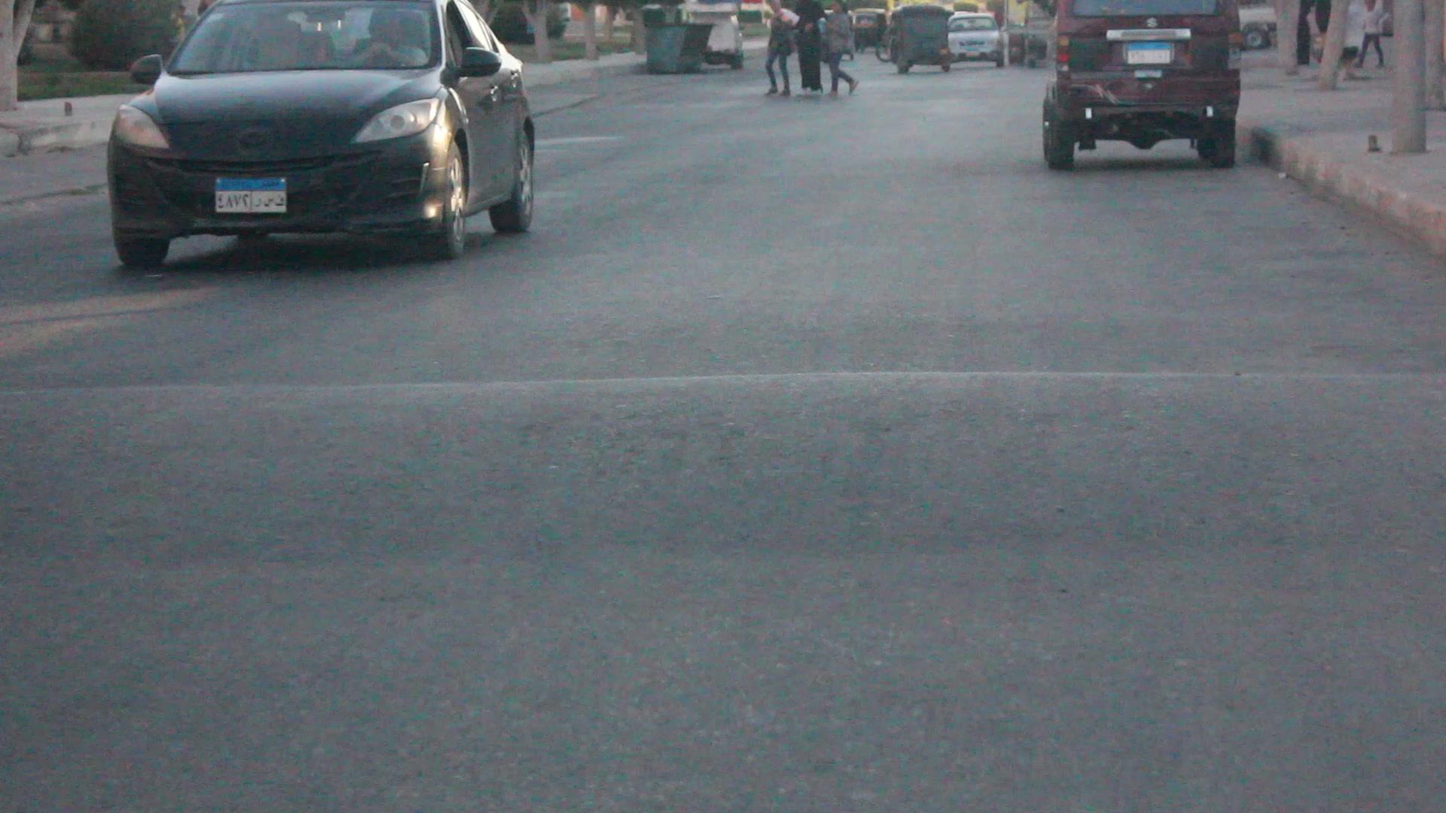Bump: (4, 384, 1444, 577)
